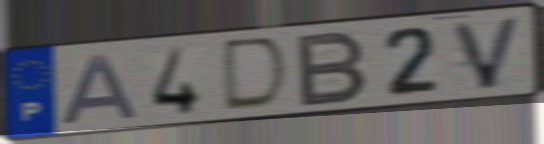2: (381, 25, 442, 98)
4: (148, 43, 208, 118)
A: (57, 51, 143, 127)
B: (295, 28, 372, 110)
D: (219, 34, 293, 115)
V: (448, 14, 526, 93)
